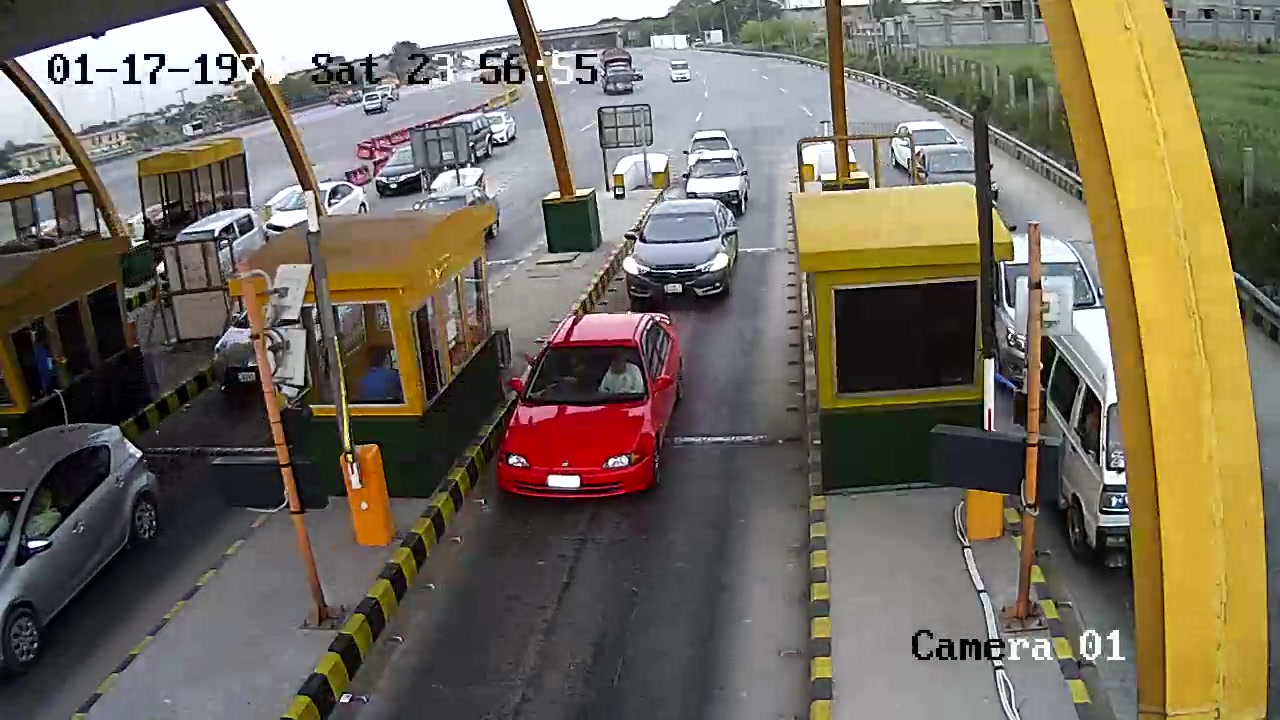F1: (491, 313, 683, 523)
